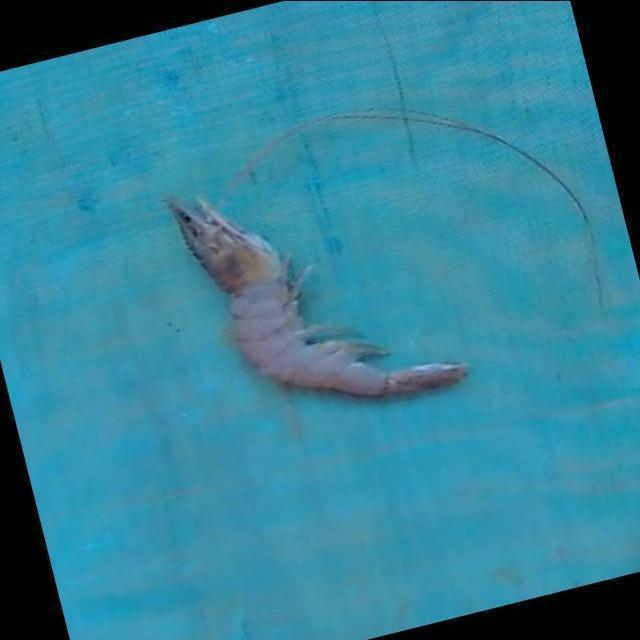shrimp: (167, 196, 465, 395)
